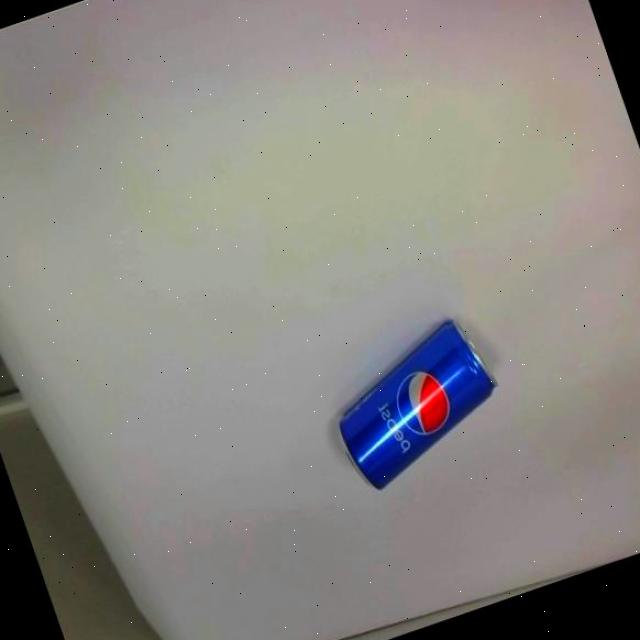debris: (316, 310, 518, 497)
